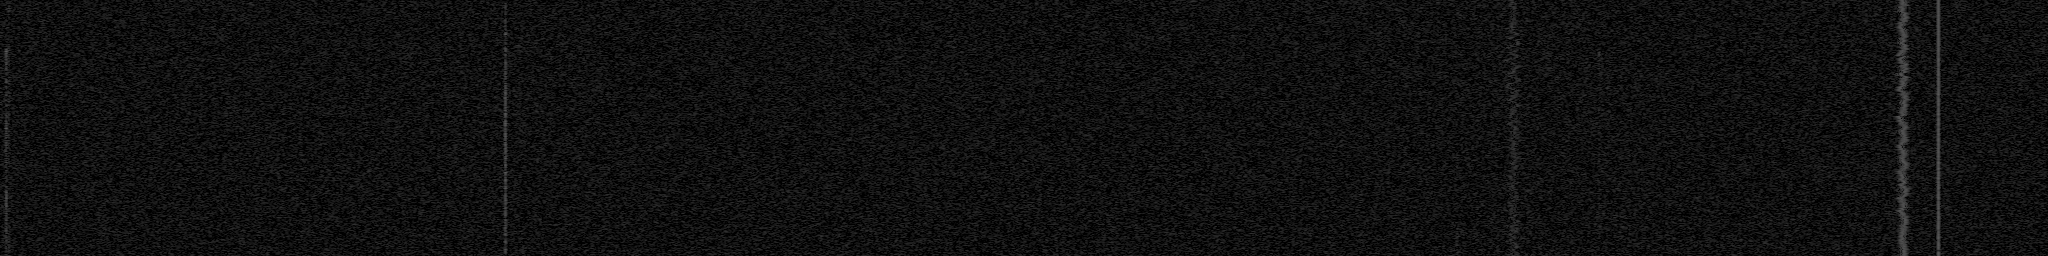wv_am: (1936, 0, 1941, 256)
wv_lsb: (3, 44, 9, 256), (7, 200, 10, 256), (7, 78, 10, 119), (7, 120, 10, 154), (7, 3, 10, 37), (7, 38, 10, 71), (7, 155, 10, 179), (1455, 227, 1460, 242), (1455, 155, 1459, 171), (4, 1, 9, 8), (1455, 243, 1459, 251), (1456, 9, 1459, 21), (4, 20, 8, 27), (1456, 179, 1459, 189), (7, 187, 10, 193), (7, 72, 10, 78), (1456, 24, 1459, 31), (1455, 3, 1459, 8), (7, 180, 10, 185), (5, 31, 8, 39), (1455, 221, 1459, 226), (4, 10, 8, 14), (1455, 252, 1459, 255), (1456, 150, 1459, 154), (1456, 135, 1459, 138), (1456, 37, 1459, 40), (7, 195, 10, 197), (5, 16, 8, 20), (1456, 216, 1459, 219), (1456, 209, 1459, 213), (1456, 145, 1459, 148), (1456, 195, 1459, 197), (1456, 172, 1459, 175)
wv_usb: (503, 1, 508, 256), (1597, 152, 1603, 232), (1597, 50, 1603, 69), (1597, 234, 1601, 256), (1597, 84, 1601, 94), (1597, 142, 1601, 152), (1597, 128, 1601, 136), (1597, 114, 1601, 121), (1597, 71, 1601, 78), (1597, 24, 1601, 31), (1597, 37, 1601, 43), (1597, 108, 1601, 114), (1597, 44, 1601, 50), (1597, 9, 1601, 14), (1597, 137, 1601, 141), (1597, 123, 1601, 127), (1597, 101, 1601, 104), (1597, 95, 1601, 99), (1597, 80, 1601, 84), (1597, 18, 1601, 21)
wv_wbfm: (1503, 0, 1524, 256), (1893, 0, 1913, 256)
